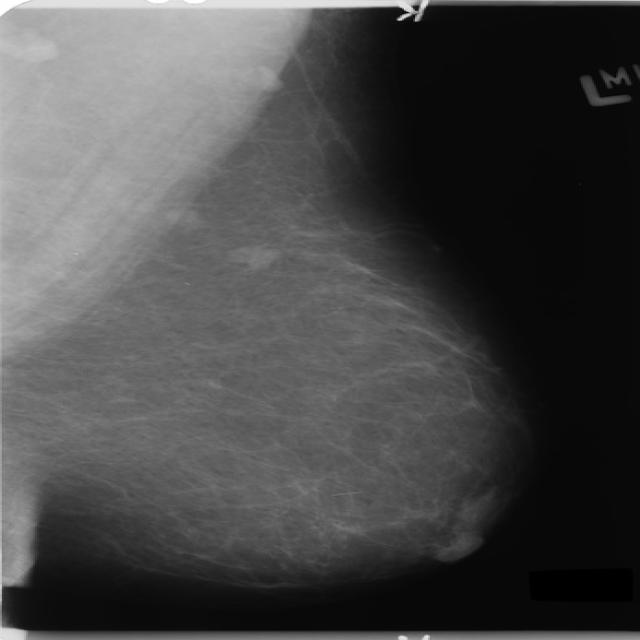tumour: (162, 206, 198, 223)
